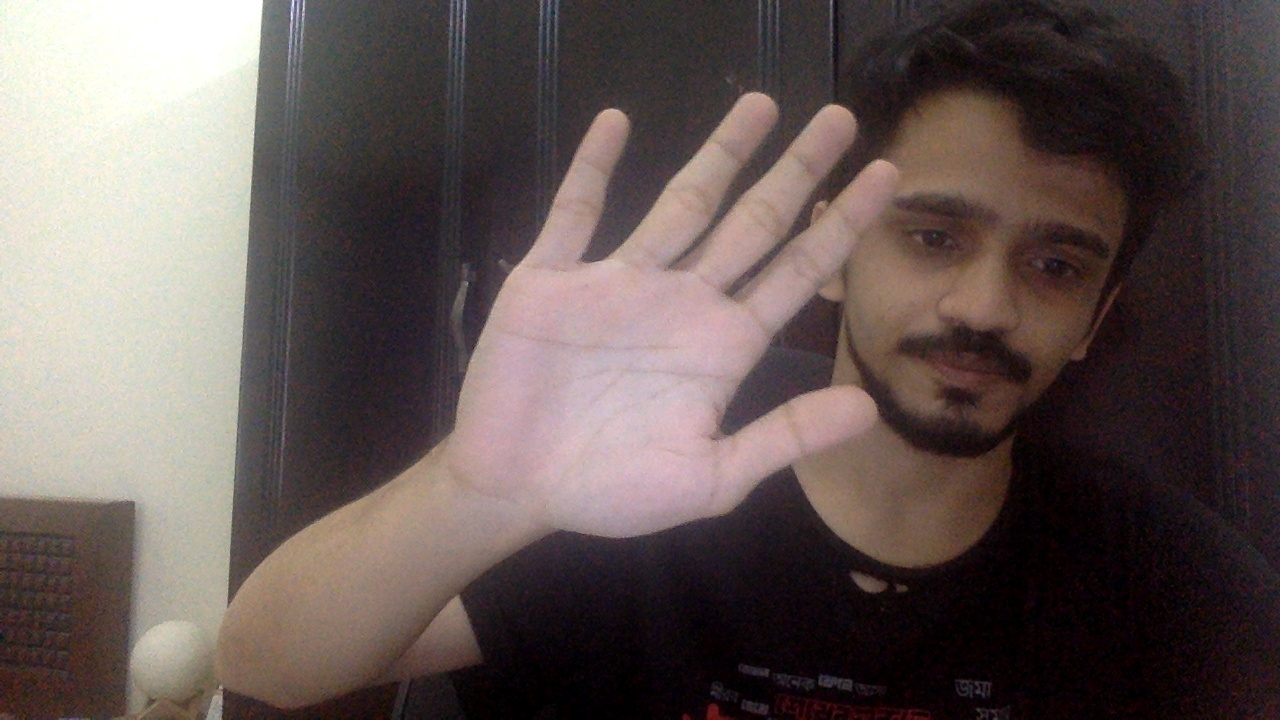stop: (442, 91, 879, 542)
